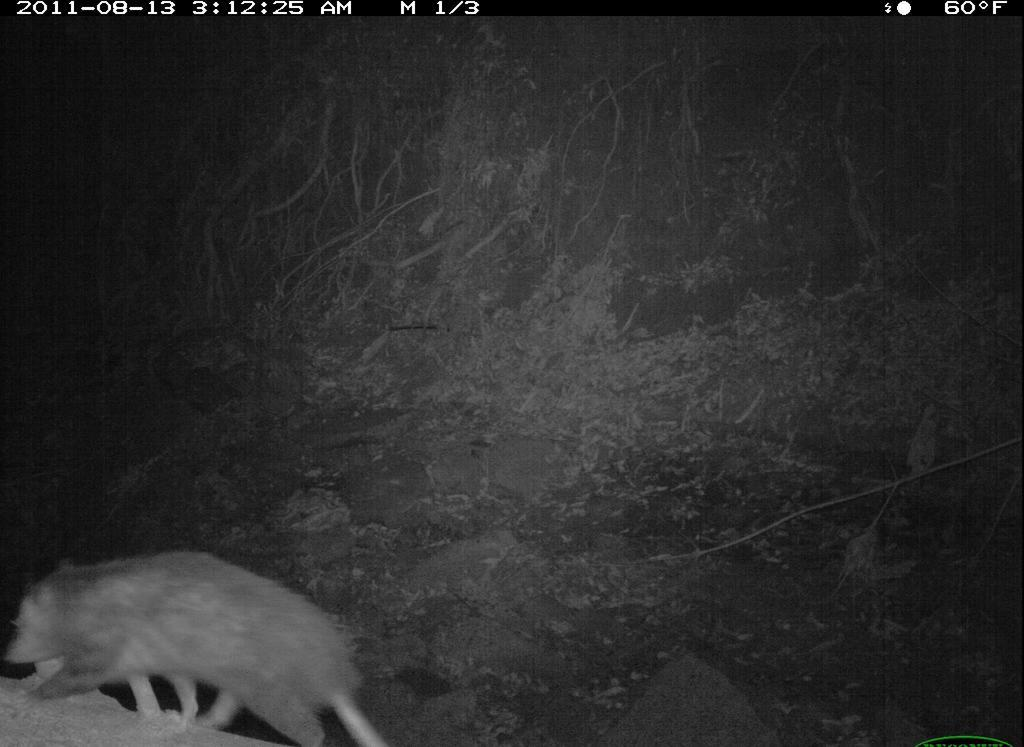opossum: (6, 545, 400, 747)
